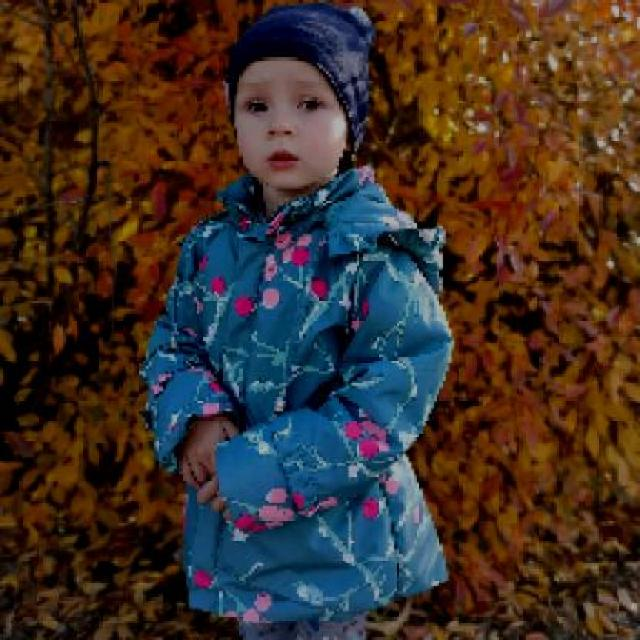child: (137, 0, 457, 637)
